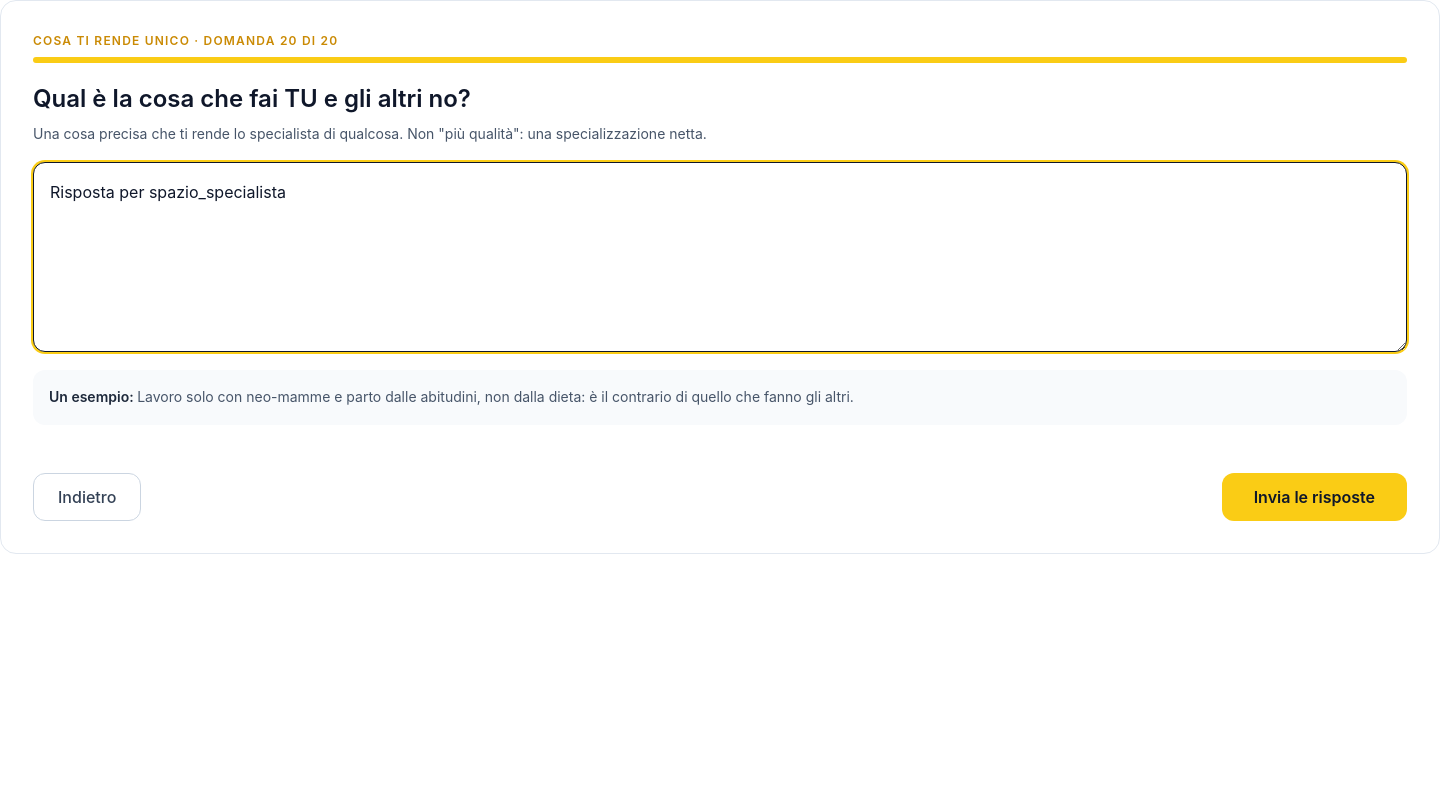
se il server dice che manca una risposta, riapre quella domanda
Expected: the heading "Qual è la cosa che fai TU e gli altri no?" is shown, 33,84 -> 471,113
Click the button "Invia le risposte": (1314, 496) 1222,472 -> 1407,520
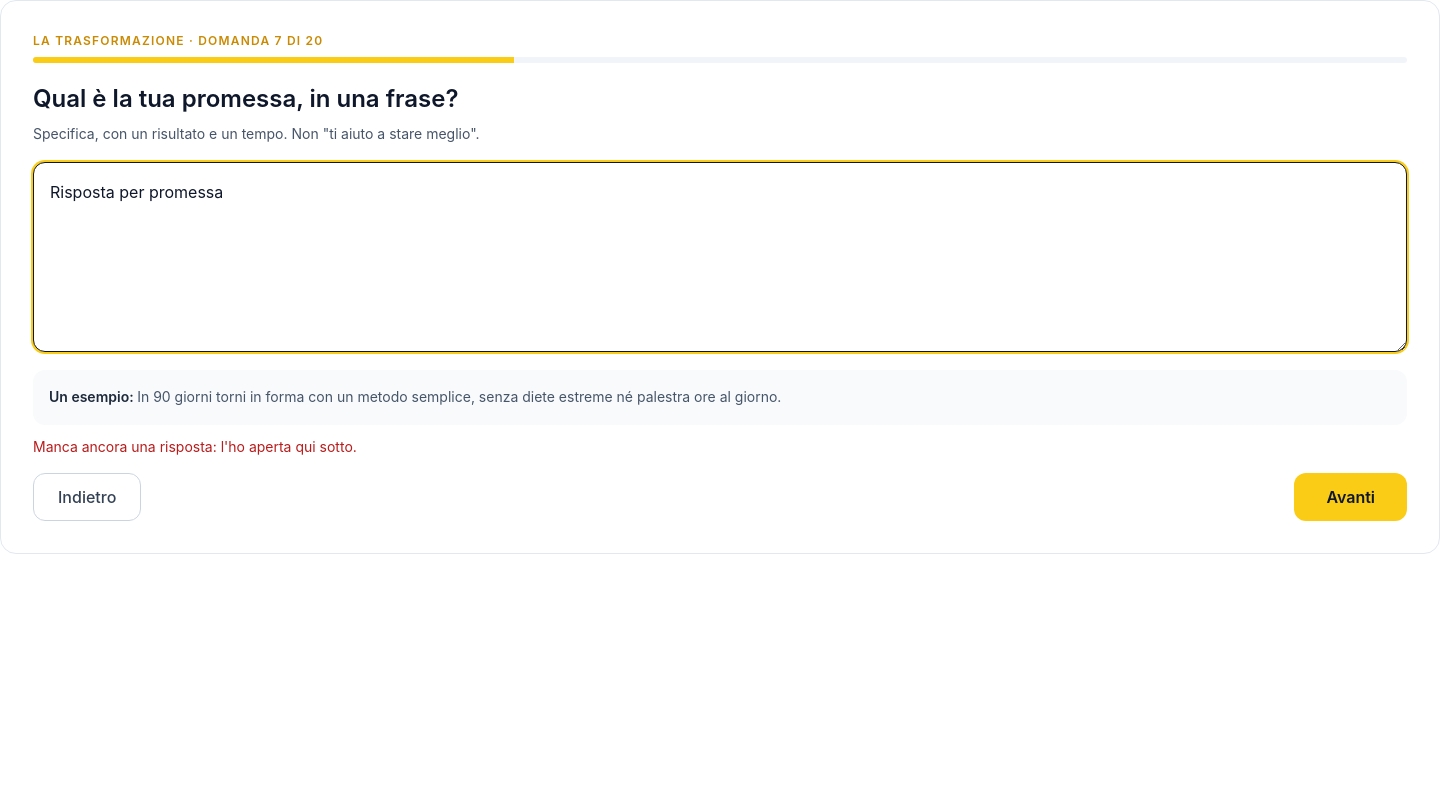
Expected: the heading "Qual è la tua promessa, in una frase?" is shown, 33,84 -> 458,113
Expected: the text "Manca ancora una risposta: l'ho aperta qui sotto." is shown, 33,438 -> 357,454
